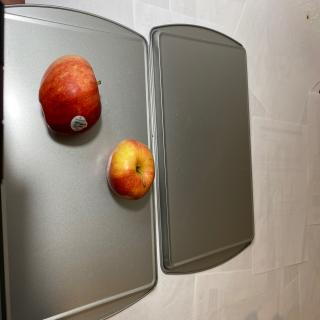Apple: (38, 54, 102, 136), (107, 139, 155, 200)
